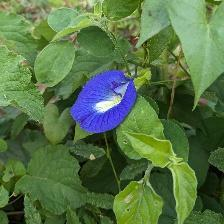shankupushpam: (70, 69, 142, 136)
